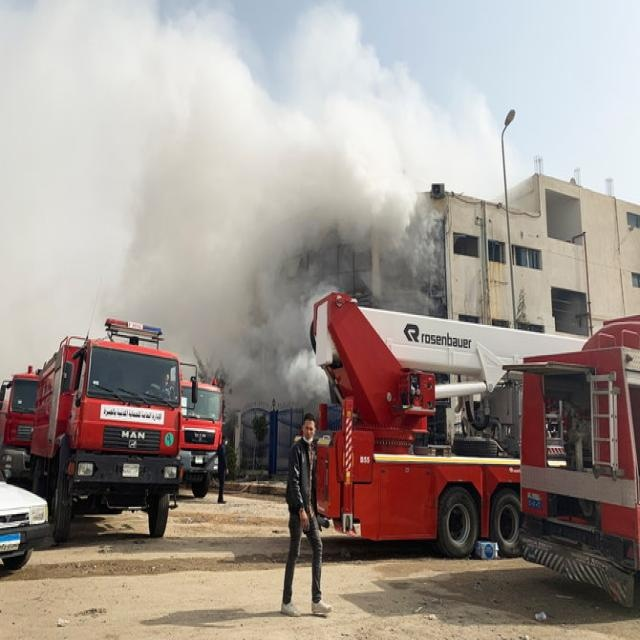Fire-truck: (330, 280, 640, 631), (41, 320, 192, 548), (158, 370, 234, 500)
car: (0, 472, 50, 570)
person: (281, 412, 332, 617), (217, 435, 228, 503), (157, 373, 175, 399)
